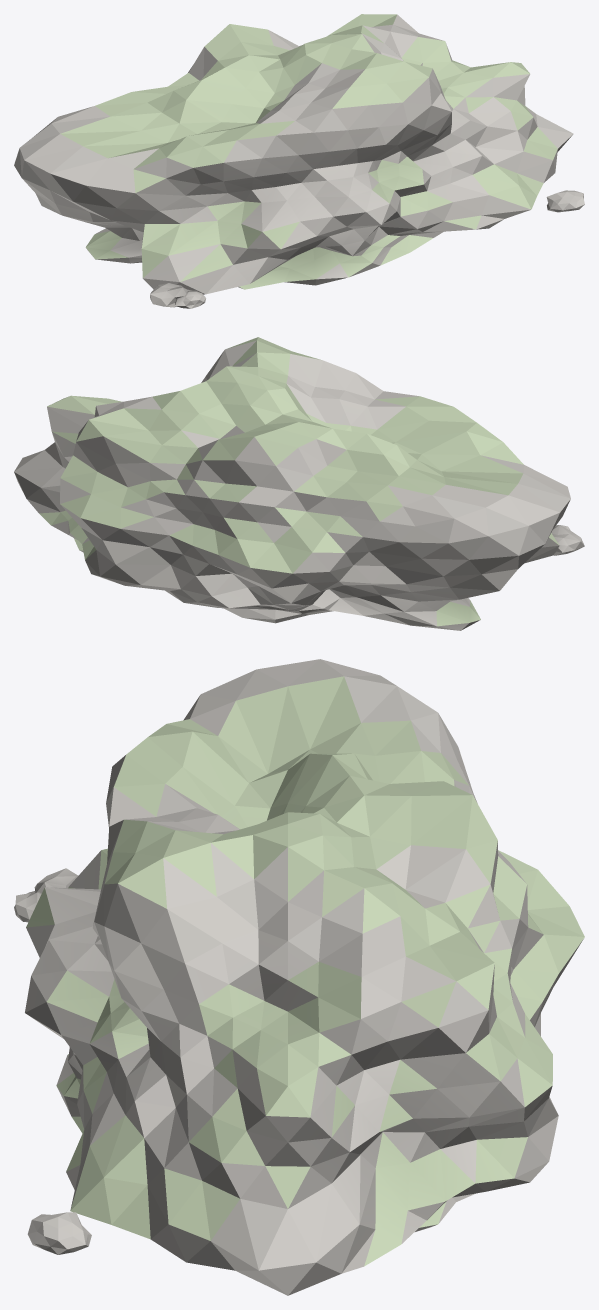
The model's file is boulder_c.glb.
3 renders of one model, top to bottom at view 1: azimuth 30°, elevation 25°; view 2: azimuth 150°, elevation 25°; view 3: azimuth 270°, elevation 25°, orthographic. The views are drawn at different scales.
Parts seen in each view (by area): view 1: boulder; view 2: boulder; view 3: boulder.
Boxes of the visible parts, box(x1,y1,x2,y2) form: boulder: box(14, 14, 584, 308); boulder: box(14, 337, 584, 630); boulder: box(14, 659, 584, 1295).
Size of the model in its own units: 3.11 by 1.03 by 1.65.
